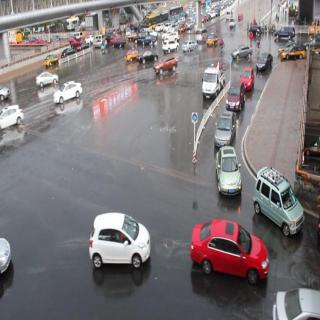Car: (193, 214, 266, 292), (76, 215, 148, 280), (258, 162, 305, 245), (210, 136, 252, 203), (201, 61, 227, 101), (150, 53, 182, 83), (50, 85, 89, 106), (37, 70, 59, 90), (182, 32, 200, 56), (42, 48, 61, 68), (162, 30, 178, 53)
